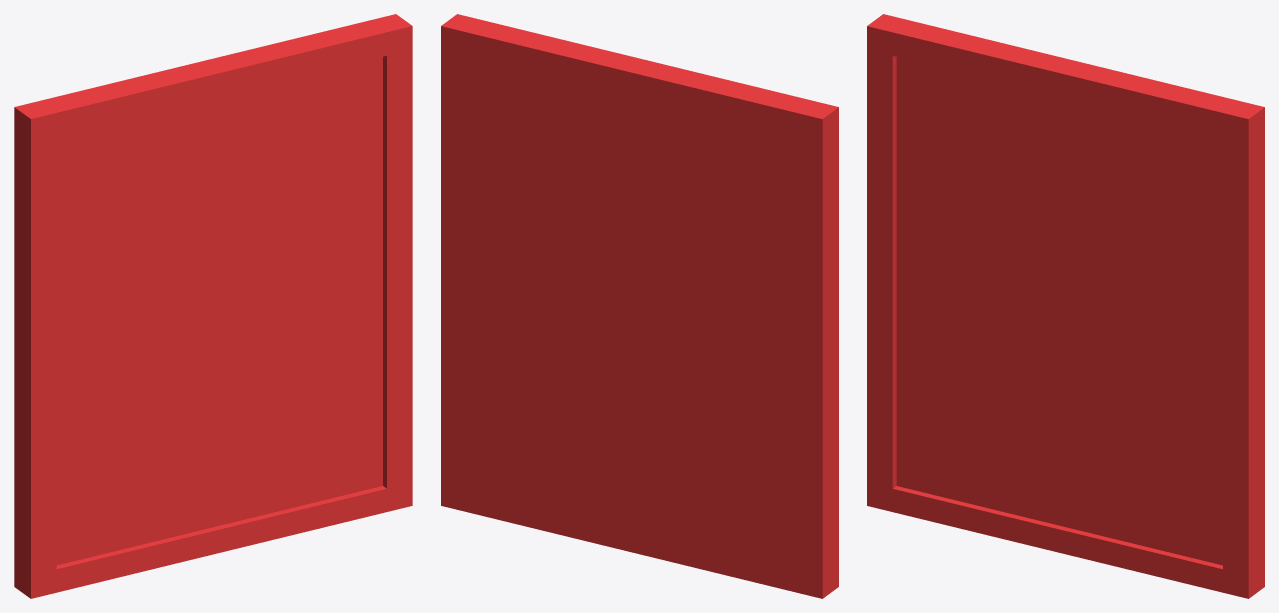
File: Itr_Obj_Frame2_05.FBX
The picture shows the model from 3 angles, left to right: view 1: azimuth 30°, elevation 25°; view 2: azimuth 150°, elevation 25°; view 3: azimuth 330°, elevation 25°; orthographic projection.
Parts seen in each view (by area): view 1: Itr_Obj_Frame2_05; view 2: Itr_Obj_Frame2_05; view 3: Itr_Obj_Frame2_05.
Boxes of the visible parts, left/top/right/bottom form: Itr_Obj_Frame2_05: left=14, top=14, right=412, bottom=598; Itr_Obj_Frame2_05: left=441, top=14, right=838, bottom=598; Itr_Obj_Frame2_05: left=867, top=14, right=1264, bottom=598.
Bounding box in the file's own units: 31.11 × 37.35 × 2.33.
